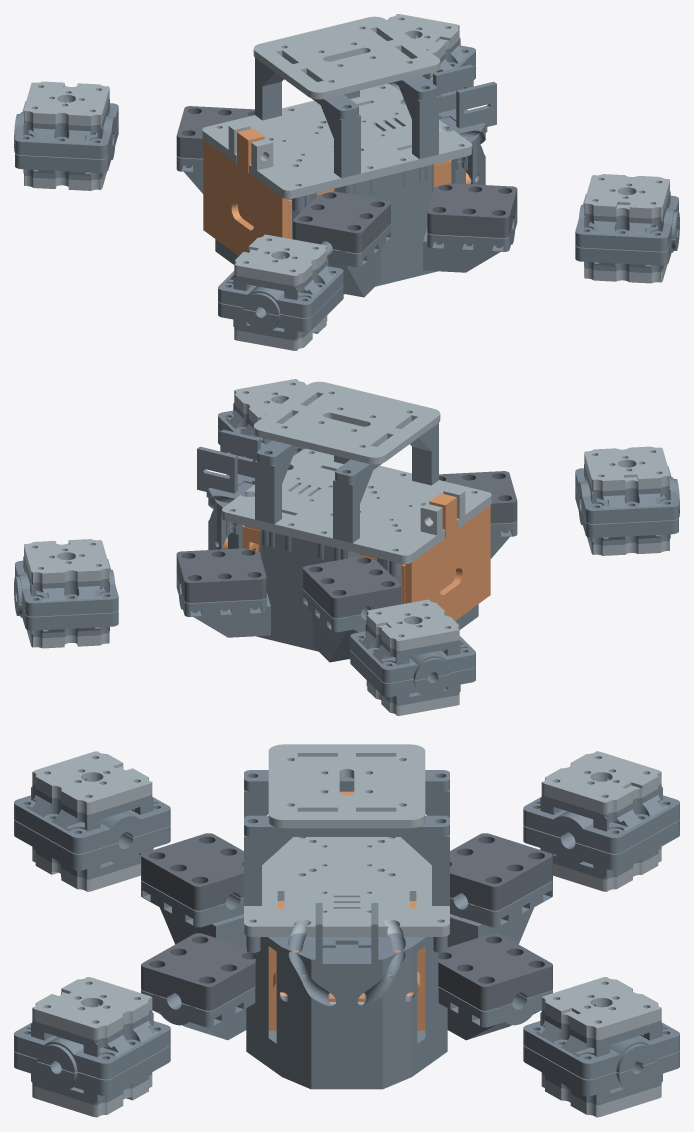
The model's file is frame-r02.glb.
3 views of the same model, one above another, from view 1: azimuth 30°, elevation 25°; view 2: azimuth 150°, elevation 25°; view 3: azimuth 270°, elevation 25° (orthographic). The views are drawn at different scales.
Visible parts, largest first — view 1: MainBody, ElectronicsDeck, ActionCameraPlate, BatteryCartridge, RootCapRearRight, RootCapFrontRight, PodRearRightUpperClamp, CameraBridge, PodFrontRightUpperClamp, PodRearLeftUpperClamp, PodRearRightUpperPlate, PodFrontRightUpperPlate (+11 smaller); view 2: MainBody, ElectronicsDeck, ActionCameraPlate, BatteryCartridge, RootCapRearLeft, RootCapFrontLeft, PodRearLeftUpperClamp, CameraBridge, PodFrontLeftUpperClamp, PodRearRightUpperClamp, PodRearLeftUpperPlate, PodRearRightUpperPlate (+11 smaller); view 3: MainBody, ElectronicsDeck, ActionCameraPlate, RootCapFrontLeft, RootCapFrontRight, CameraBridge001, PodFrontLeftUpperClamp, PodFrontRightUpperClamp, RootCapRearLeft, RootCapRearRight, PodRearLeftUpperClamp, PodRearRightUpperClamp (+14 smaller).
Part boxes in pixels (x1,y1,x2,y2): MainBody: (176, 64, 517, 297); ElectronicsDeck: (202, 83, 471, 199); ActionCameraPlate: (253, 16, 440, 99); BatteryCartridge: (203, 128, 470, 255); RootCapRearRight: (293, 191, 390, 253); RootCapFrontRight: (427, 183, 517, 237); PodRearRightUpperClamp: (218, 256, 343, 318); CameraBridge: (255, 58, 360, 178); PodFrontRightUpperClamp: (575, 191, 679, 251); PodRearLeftUpperClamp: (14, 99, 118, 159); PodRearRightUpperPlate: (234, 234, 327, 286); PodFrontRightUpperPlate: (584, 174, 669, 218); MainBody: (176, 429, 517, 662); ElectronicsDeck: (222, 448, 491, 564); ActionCameraPlate: (253, 381, 440, 464); BatteryCartridge: (223, 493, 490, 620); RootCapRearLeft: (303, 556, 400, 618); RootCapFrontLeft: (176, 548, 266, 602); PodRearLeftUpperClamp: (350, 621, 475, 683); CameraBridge: (333, 423, 438, 543); PodFrontLeftUpperClamp: (14, 556, 118, 616); PodRearRightUpperClamp: (575, 464, 679, 524); PodRearLeftUpperPlate: (366, 599, 459, 651); PodRearRightUpperPlate: (584, 446, 669, 491); MainBody: (141, 880, 552, 1089); ElectronicsDeck: (244, 837, 449, 936); ActionCameraPlate: (268, 744, 425, 828); RootCapFrontLeft: (438, 933, 552, 1010); RootCapFrontRight: (141, 933, 255, 1010); CameraBridge001: (244, 815, 449, 905); PodFrontLeftUpperClamp: (523, 1010, 679, 1079); PodFrontRightUpperClamp: (14, 1010, 170, 1079); RootCapRearLeft: (450, 833, 552, 910); RootCapRearRight: (141, 833, 243, 910); PodRearLeftUpperClamp: (523, 784, 679, 853); PodRearRightUpperClamp: (14, 784, 170, 853).
Bounding box in the file's own units: 0.282 × 0.116 × 0.2976.
